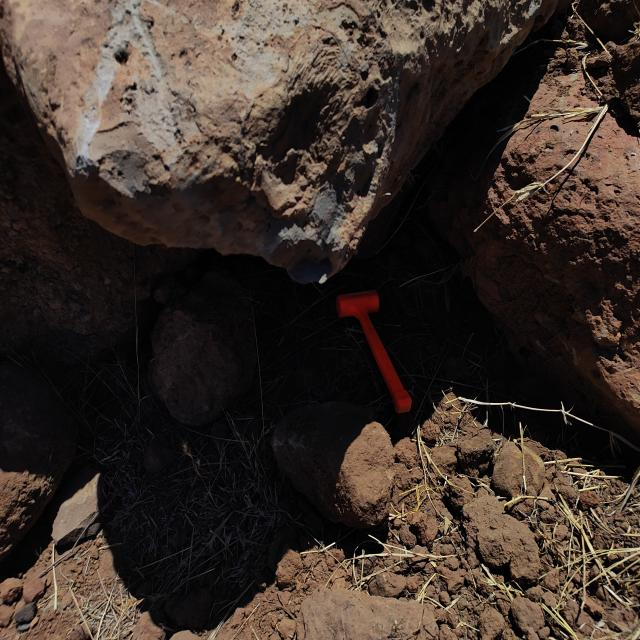Orange_hammer: (335, 288, 413, 414)
